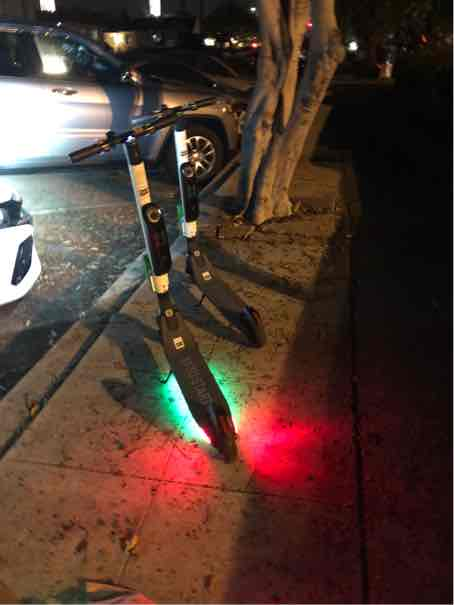scooter: (61, 108, 246, 471), (128, 87, 279, 350)
